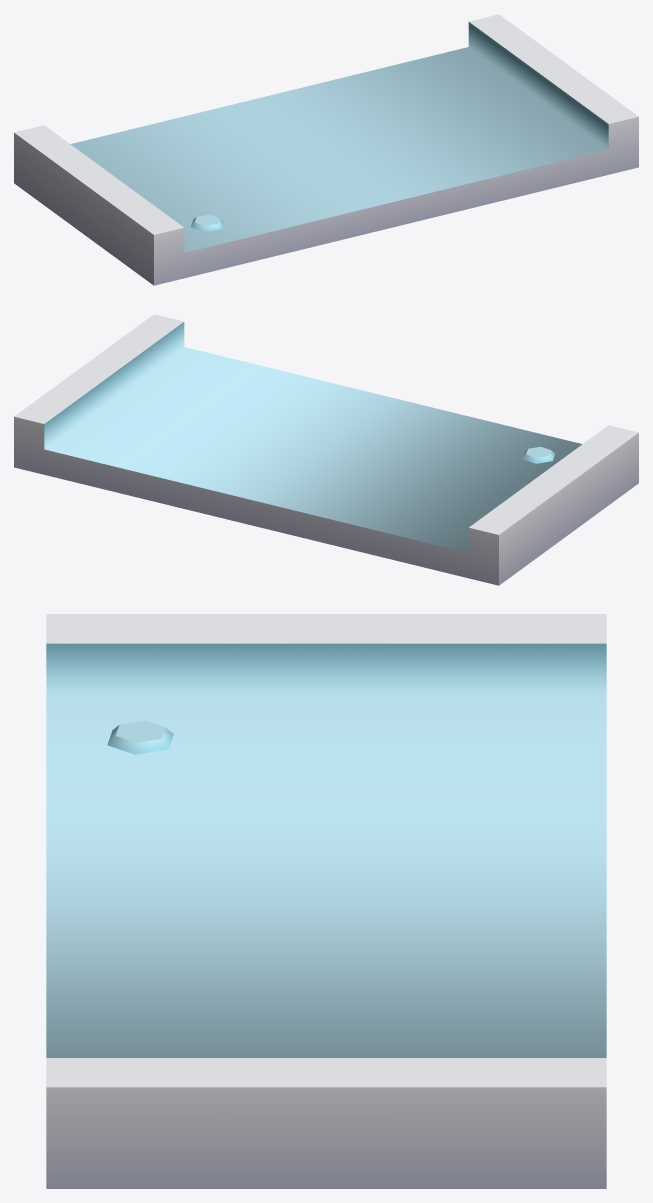
File: kenney-tower-defense-snow-tile-wide-straight.glb
3 renders of one model, top to bottom at view 1: azimuth 30°, elevation 25°; view 2: azimuth 150°, elevation 25°; view 3: azimuth 270°, elevation 25°, orthographic. The views are drawn at different scales.
Visible parts, largest first — view 1: snow-tile-wide-straight; view 2: snow-tile-wide-straight; view 3: snow-tile-wide-straight.
Boxes of the visible parts, x1,y1,x2,y2 form: snow-tile-wide-straight: [14, 14, 638, 285]; snow-tile-wide-straight: [14, 314, 638, 585]; snow-tile-wide-straight: [46, 614, 606, 1188].
Size of the model in its own units: 2 by 0.2 by 1.
Materials: 1 (1 with a texture image).
